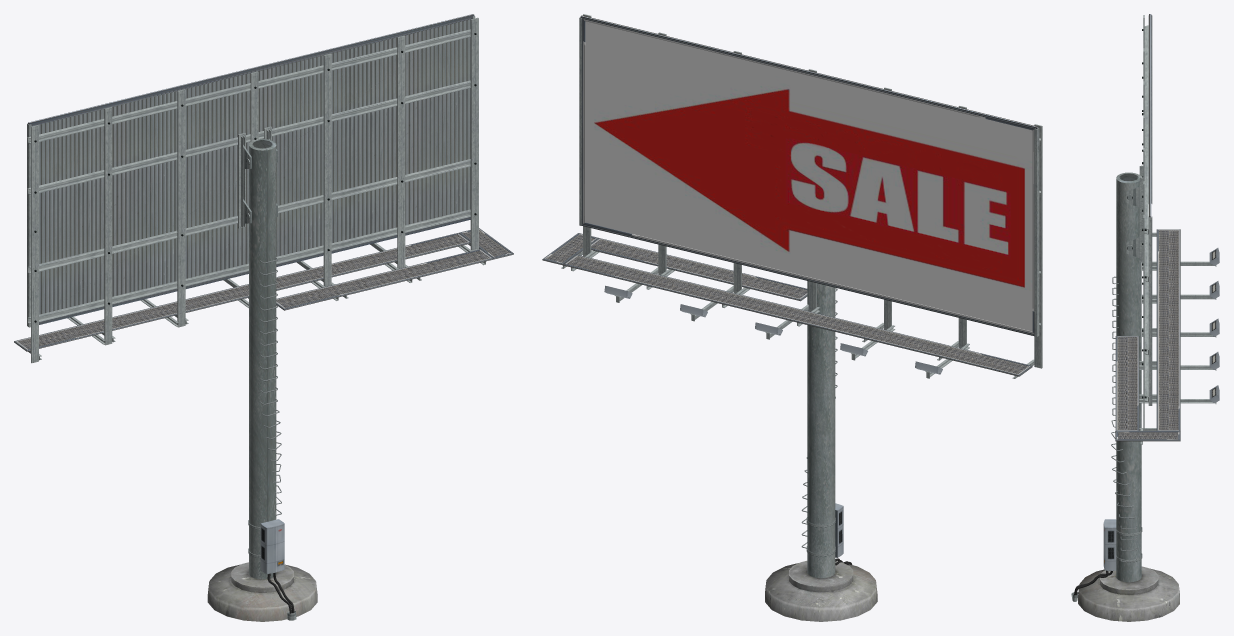
Rendered from billboard_a_2012_Billboard_A.FBX.
3 renders of one model, left to right at view 1: azimuth 30°, elevation 25°; view 2: azimuth 150°, elevation 25°; view 3: azimuth 270°, elevation 25°, orthographic. The views are drawn at different scales.
Visible parts, largest first — view 1: billboard_a_2012_Billboard_A; view 2: billboard_a_2012_Billboard_A; view 3: billboard_a_2012_Billboard_A.
Part boxes in pixels (<box>): billboard_a_2012_Billboard_A: <box>14,14,513,621</box>; billboard_a_2012_Billboard_A: <box>542,14,1042,621</box>; billboard_a_2012_Billboard_A: <box>1071,14,1219,621</box>.
Size of what is drawn, in the model's own units: 8.72 by 2.57 by 9.26.
